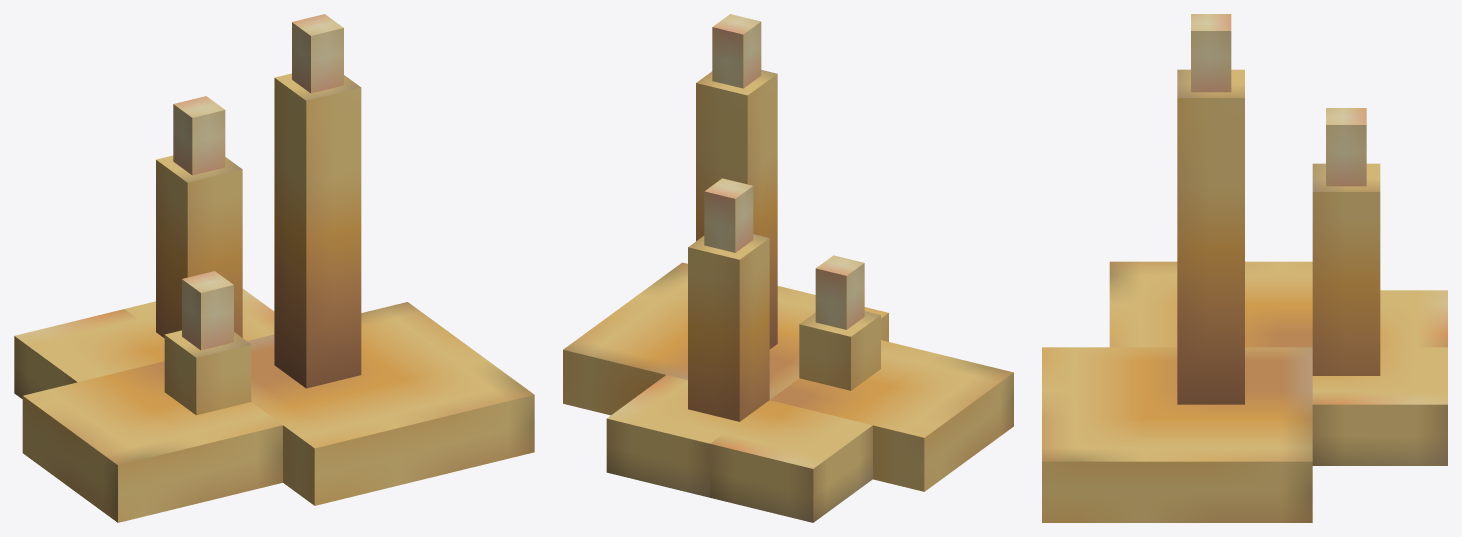
Rendered from candle_arrangement_04_lit.fbx.
3 renders of one model, left to right at view 1: azimuth 30°, elevation 25°; view 2: azimuth 150°, elevation 25°; view 3: azimuth 270°, elevation 25°, orthographic. The views are drawn at different scales.
Parts seen in each view (by area): view 1: candle_arrangement_04_lit; view 2: candle_arrangement_04_lit; view 3: candle_arrangement_04_lit.
Boxes of the visible parts, <box> form: candle_arrangement_04_lit: <box>14,14,534,522</box>; candle_arrangement_04_lit: <box>563,14,1013,522</box>; candle_arrangement_04_lit: <box>1042,14,1447,522</box>.
Size of the model in its own units: 7 by 7 by 6.
